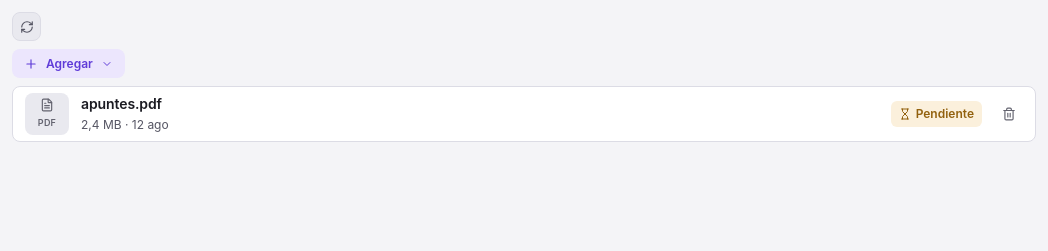
Test: AdjuntosContainer › adding files invalidates ONLY the ["adjuntos", subjectId] query, driven by the real per-file failures
Expected: the text "apuntes.pdf" is shown, [81, 95, 162, 112]
Click the button "Agregar" at [68, 64], box [12, 49, 125, 78]
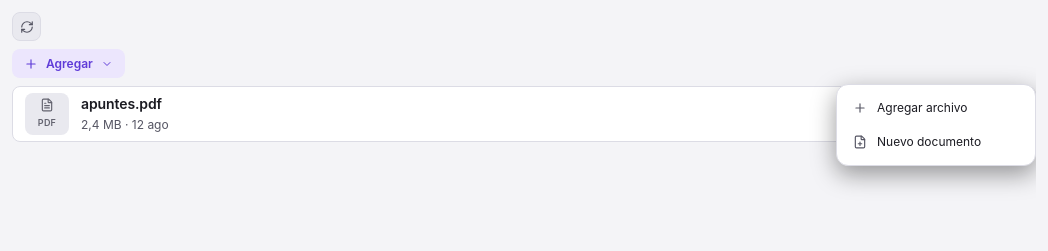
Click the menu item "Agregar archivo" at [936, 108], box [843, 91, 1029, 125]
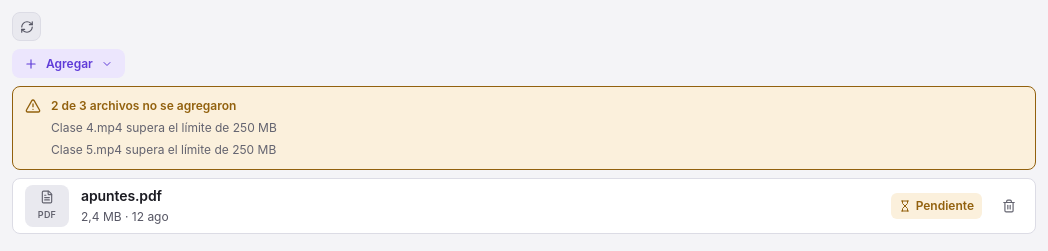
Expected: the text "2 de 3 archivos no se agregaron" is shown, [51, 98, 236, 113]
Expected: the text "Clase 4.mp4 supera el límite de 250 MB" is shown, [51, 119, 277, 137]
Expected: the text "Clase 5.mp4 supera el límite de 250 MB" is shown, [51, 141, 277, 159]
